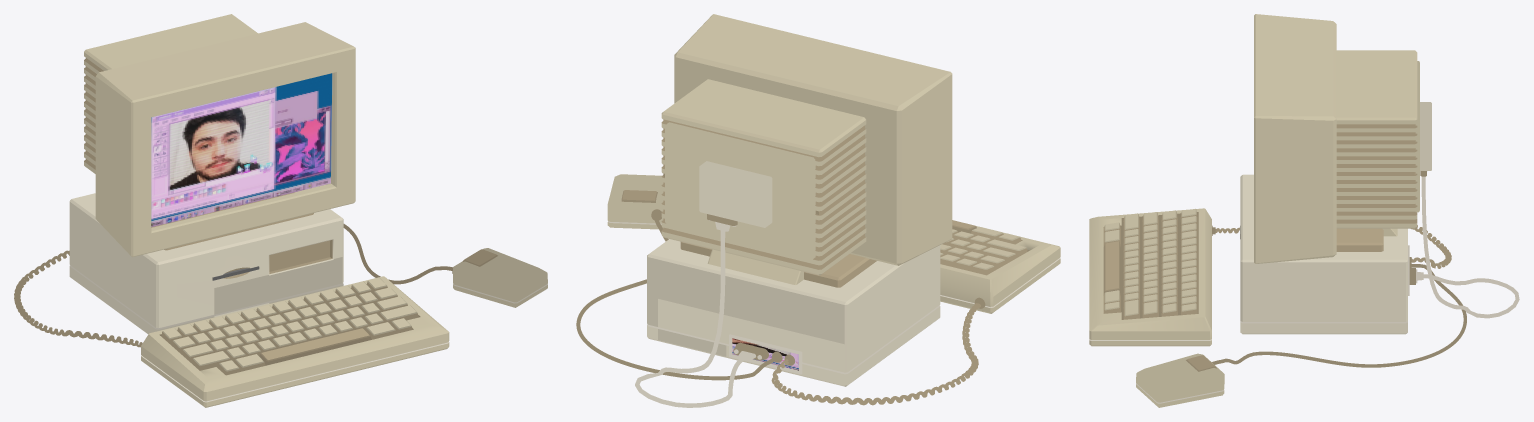
Rendered from computer.glb.
3 renders of one model, left to right at view 1: azimuth 30°, elevation 25°; view 2: azimuth 150°, elevation 25°; view 3: azimuth 270°, elevation 25°, orthographic. The views are drawn at different scales.
Parts seen in each view (by area): view 1: Object_4, Object_11, Object_5, Object_6, Object_7, Object_8, Object_10, Object_9; view 2: Object_4, Object_11, Object_6, Object_10, Object_7, Object_9, Object_8, Object_5; view 3: Object_4, Object_11, Object_6, Object_9, Object_10, Object_8, Object_7.
Boxes of the visible parts, left/top/right/bottom form: Object_4: left=84, top=14, right=547, bottom=407; Object_11: left=69, top=193, right=343, bottom=334; Object_5: left=151, top=73, right=332, bottom=226; Object_6: left=84, top=58, right=496, bottom=375; Object_7: left=14, top=250, right=479, bottom=371; Object_8: left=159, top=240, right=497, bottom=365; Object_10: left=70, top=265, right=547, bottom=402; Object_9: left=224, top=224, right=497, bottom=284; Object_4: left=607, top=14, right=1060, bottom=313; Object_11: left=647, top=161, right=940, bottom=386; Object_6: left=622, top=119, right=1027, bottom=287; Object_10: left=608, top=220, right=1060, bottom=407; Object_7: left=622, top=119, right=1003, bottom=405; Object_9: left=576, top=191, right=985, bottom=380; Object_8: left=622, top=191, right=1029, bottom=365; Object_5: left=732, top=338, right=798, bottom=370; Object_4: left=1089, top=14, right=1419, bottom=407; Object_11: left=1240, top=102, right=1431, bottom=334; Object_6: left=1103, top=124, right=1417, bottom=369; Object_9: left=1121, top=171, right=1466, bottom=367; Object_10: left=1089, top=176, right=1519, bottom=403; Object_8: left=1103, top=171, right=1426, bottom=371; Object_7: left=1104, top=124, right=1451, bottom=370.
Size of the model in its own units: 56.68 by 30.89 by 52.68.
7 materials, 1 textured.
